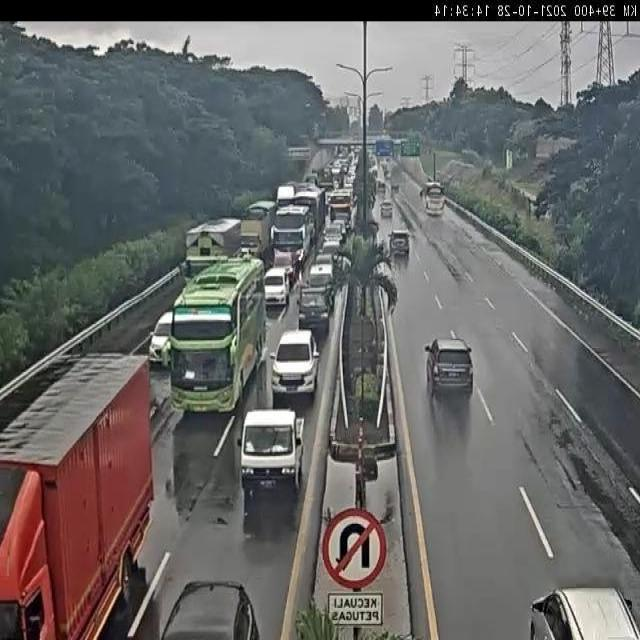Bus: (169, 255, 268, 413)
Car: (238, 407, 305, 512), (426, 336, 478, 395), (297, 288, 332, 339), (149, 310, 175, 366), (262, 266, 292, 309), (322, 222, 346, 253), (389, 229, 410, 257), (333, 162, 348, 186), (368, 164, 378, 187), (380, 200, 392, 218), (377, 179, 385, 191), (392, 182, 399, 192)
Truck: (0, 357, 156, 638), (184, 218, 244, 276), (270, 202, 312, 272), (241, 202, 278, 262), (416, 182, 449, 218), (276, 184, 298, 211)
